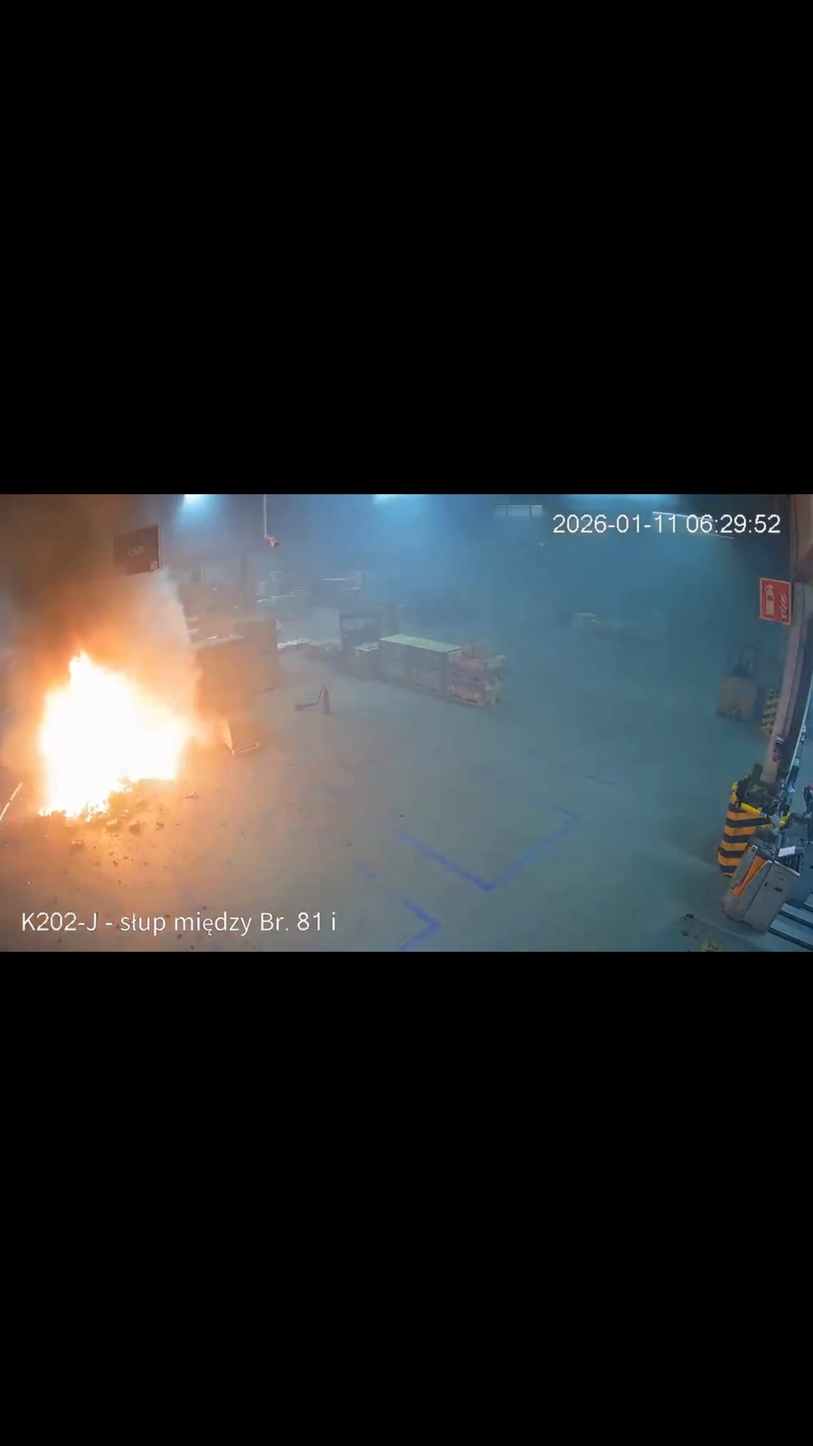fire: (21, 642, 211, 825)
smoke: (0, 496, 250, 737)
